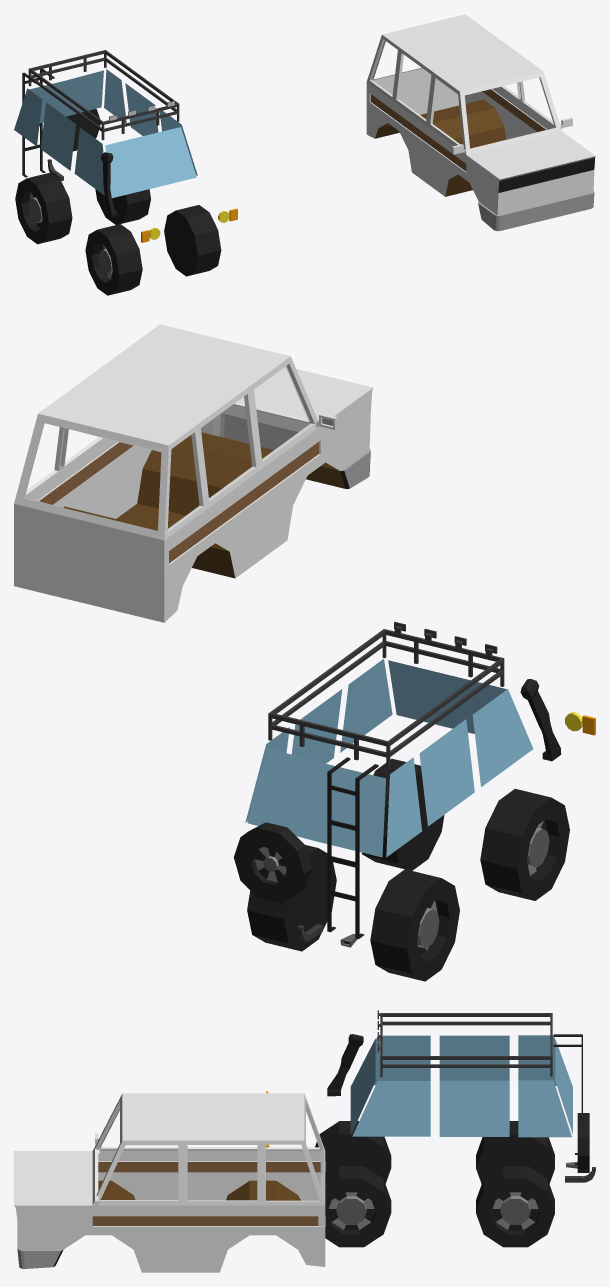
Rendered from off-roader.gltf.
3 views of the same model, one above another, from view 1: azimuth 30°, elevation 25°; view 2: azimuth 150°, elevation 25°; view 3: azimuth 270°, elevation 25° (orthographic). The views are drawn at different scales.
Parts seen in each view (by area): view 1: chassis, extra-car-stuff, back-right-tire, front-right-tire, front-left-tire, back-left-tire; view 2: chassis, extra-car-stuff, back-right-tire, front-right-tire, back-left-tire, front-left-tire; view 3: chassis, extra-car-stuff, back-left-tire, front-left-tire, back-right-tire, front-right-tire.
Boxes of the visible parts, x1,y1,x2,y2 form: chassis: (366,14,595,231); extra-car-stuff: (14,50,237,242); back-right-tire: (15,172,72,244); front-right-tire: (85,224,142,295); front-left-tire: (164,205,221,276); back-left-tire: (95,189,150,224); chassis: (14,324,372,622); extra-car-stuff: (233,622,595,947); back-right-tire: (370,869,459,981); front-right-tire: (480,788,569,900); back-left-tire: (247,845,336,951); front-left-tire: (362,758,444,870); chassis: (14,1093,325,1272); extra-car-stuff: (266,1010,595,1182); back-left-tire: (476,1166,554,1247); front-left-tire: (325,1166,391,1247); back-right-tire: (476,1121,554,1183); front-right-tire: (315,1121,391,1183).
Bounding box in the file's own units: 11.29 × 6.23 × 13.47.
Materials: 1 (1 with a texture image).
